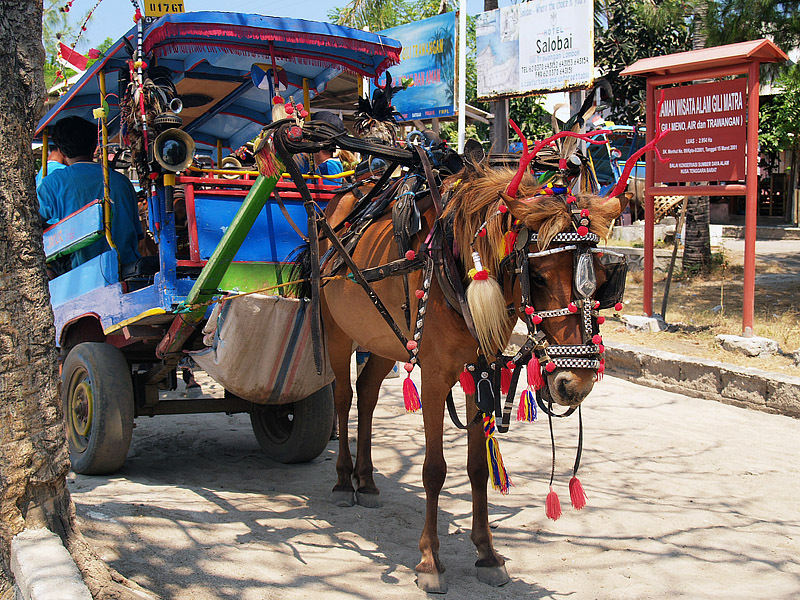horse: (284, 135, 622, 600)
